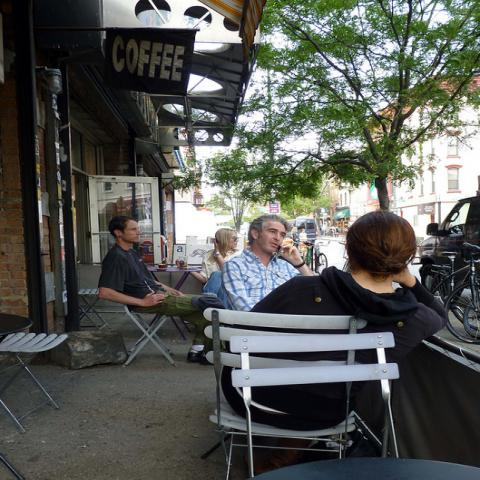car: (419, 196, 479, 258), (286, 218, 318, 242)
